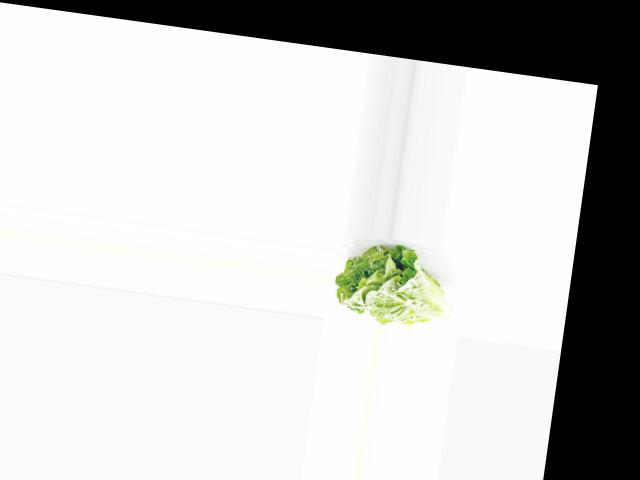lettuce: (331, 235, 457, 334)
